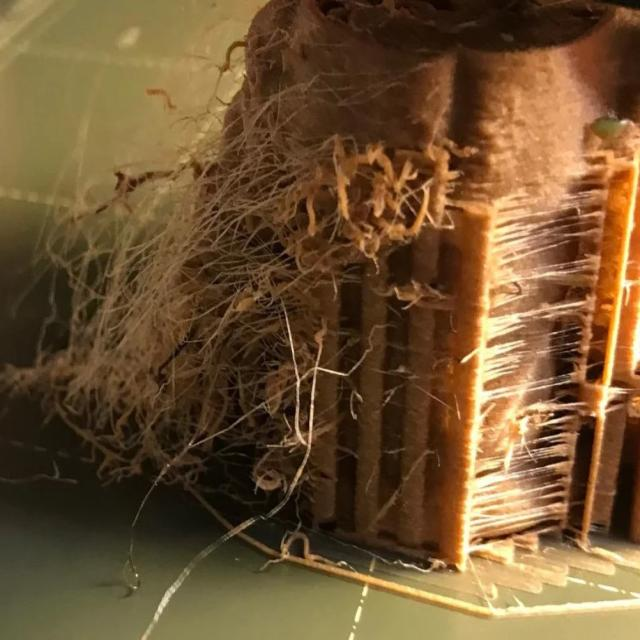Stringing: (84, 129, 340, 488), (454, 170, 612, 525)
